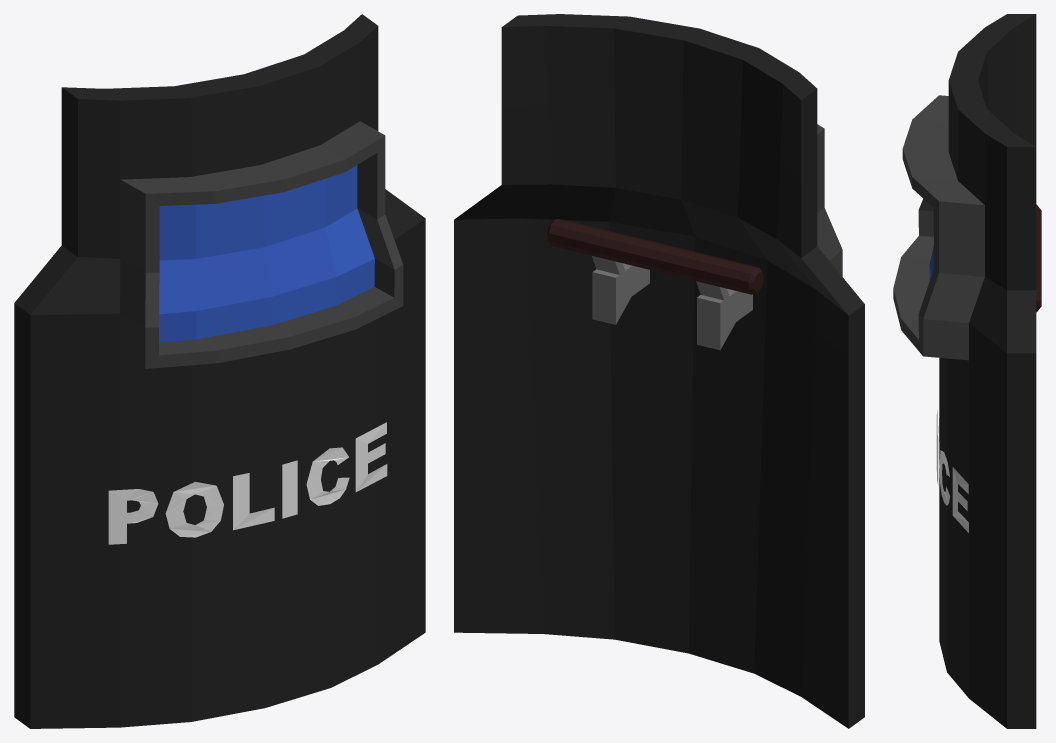
Rendered from Shield.fbx.
3 renders of one model, left to right at view 1: azimuth 30°, elevation 25°; view 2: azimuth 150°, elevation 25°; view 3: azimuth 270°, elevation 25°, orthographic. The views are drawn at different scales.
Visible parts, largest first — view 1: Sheild; view 2: Sheild; view 3: Sheild.
Boxes of the visible parts, x1=… form: Sheild: x1=14, y1=14, x2=425, y2=728; Sheild: x1=454, y1=14, x2=864, y2=728; Sheild: x1=893, y1=14, x2=1041, y2=728.
Bounding box in the file's own units: 64.08 × 95.71 × 22.89.
